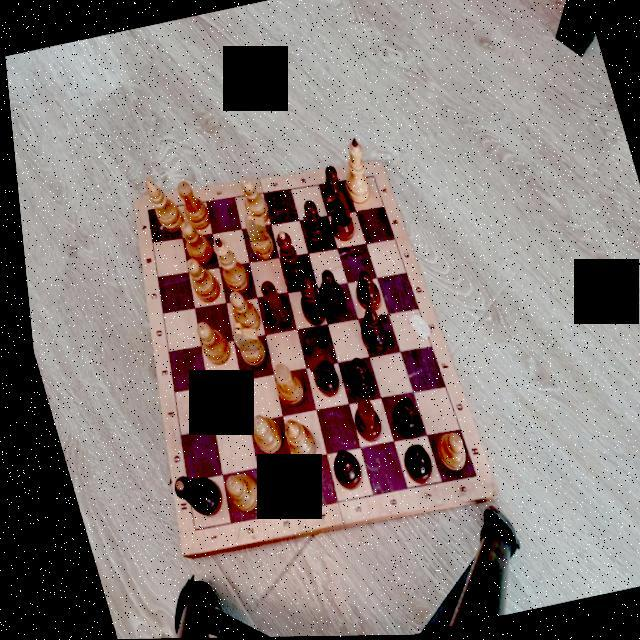chess-table-corners: (179, 524, 190, 538), (138, 206, 149, 216), (462, 472, 472, 483), (365, 172, 375, 182)
